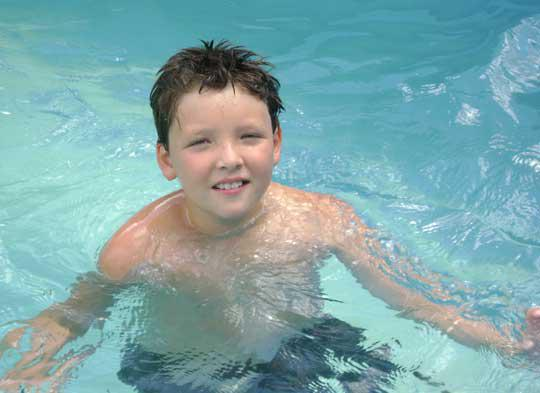human: (1, 39, 540, 392)
